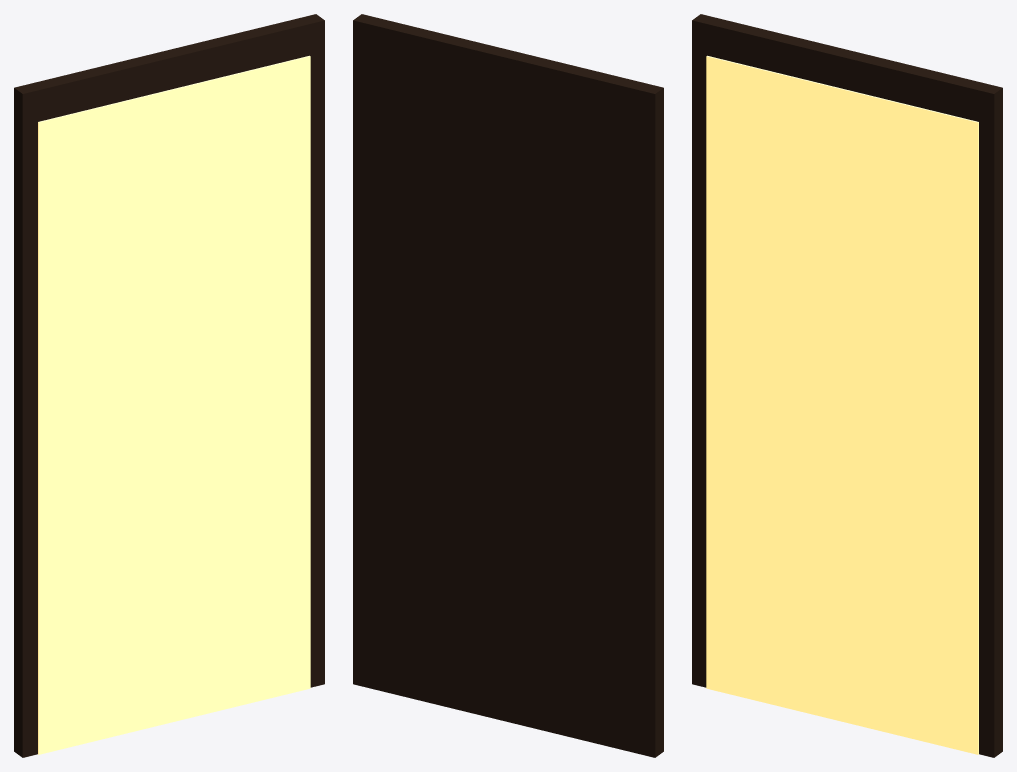
File: door.glb
3 views of the same model, side by side, from view 1: azimuth 30°, elevation 25°; view 2: azimuth 150°, elevation 25°; view 3: azimuth 330°, elevation 25° (orthographic).
Parts seen in each view (by area): view 1: light, door; view 2: door; view 3: light, door.
Boxes of the visible parts, x1,y1,x2,y2 form: light: (38,55,310,754); door: (14,14,324,757); door: (353,14,663,757); light: (706,55,978,754); door: (692,14,1002,757).
Size of the model in its own units: 1 by 2.1 by 0.055.
